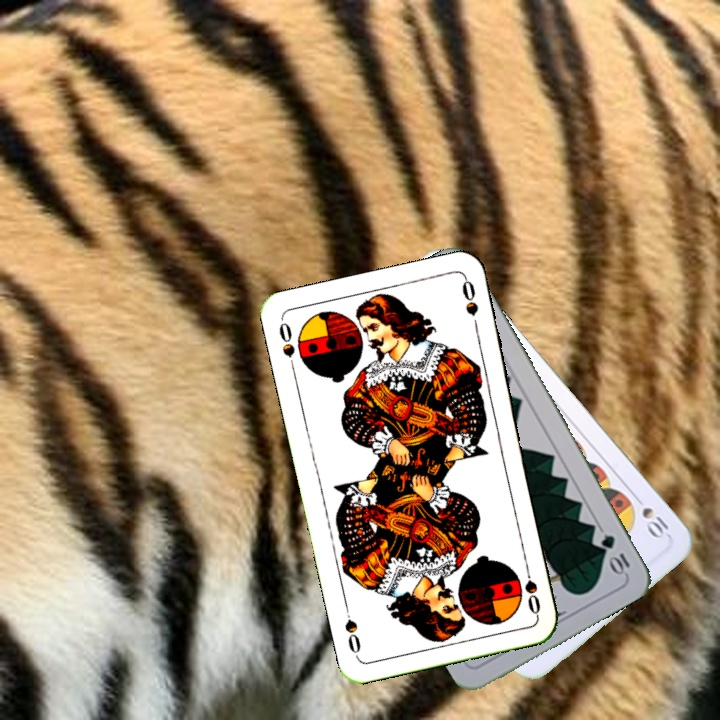G10: (597, 530, 633, 578)
S10: (638, 503, 672, 542)
SO: (275, 316, 298, 375), (520, 559, 543, 617)
